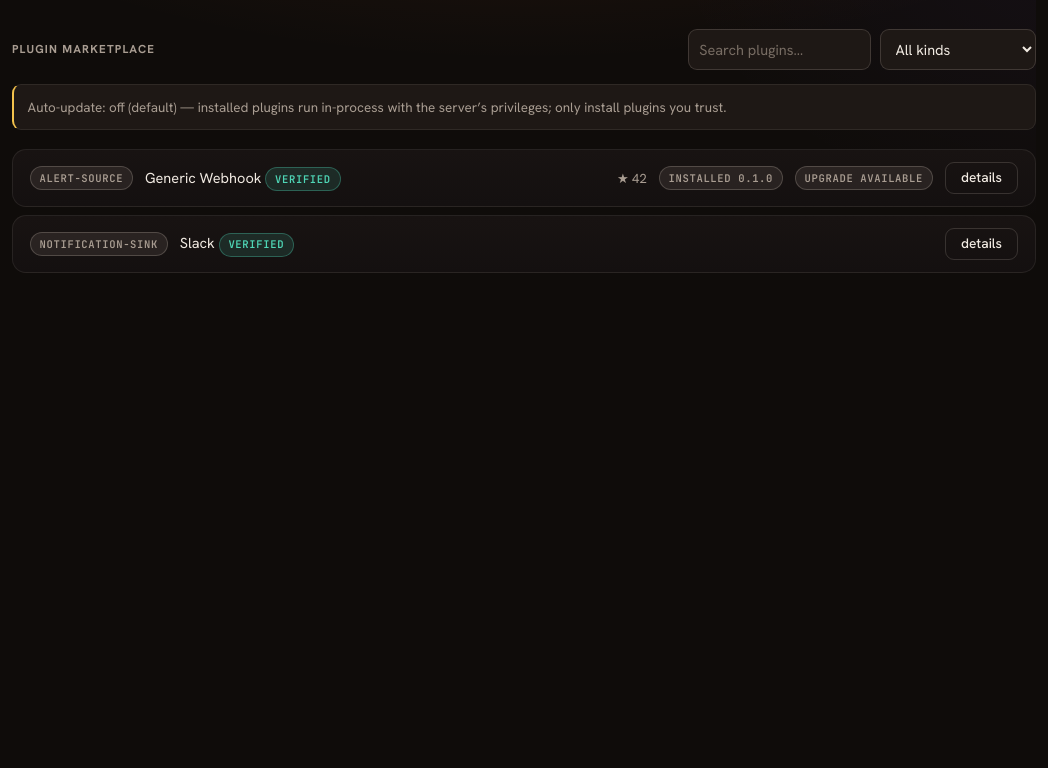
Test: MarketplacePage › disables and relabels the install button for an already-installed version
Expected: the text "Generic Webhook" is shown, [145, 168, 261, 187]
Click the button "details" in the row of "alert-source" at (982, 178), box [945, 162, 1018, 194]
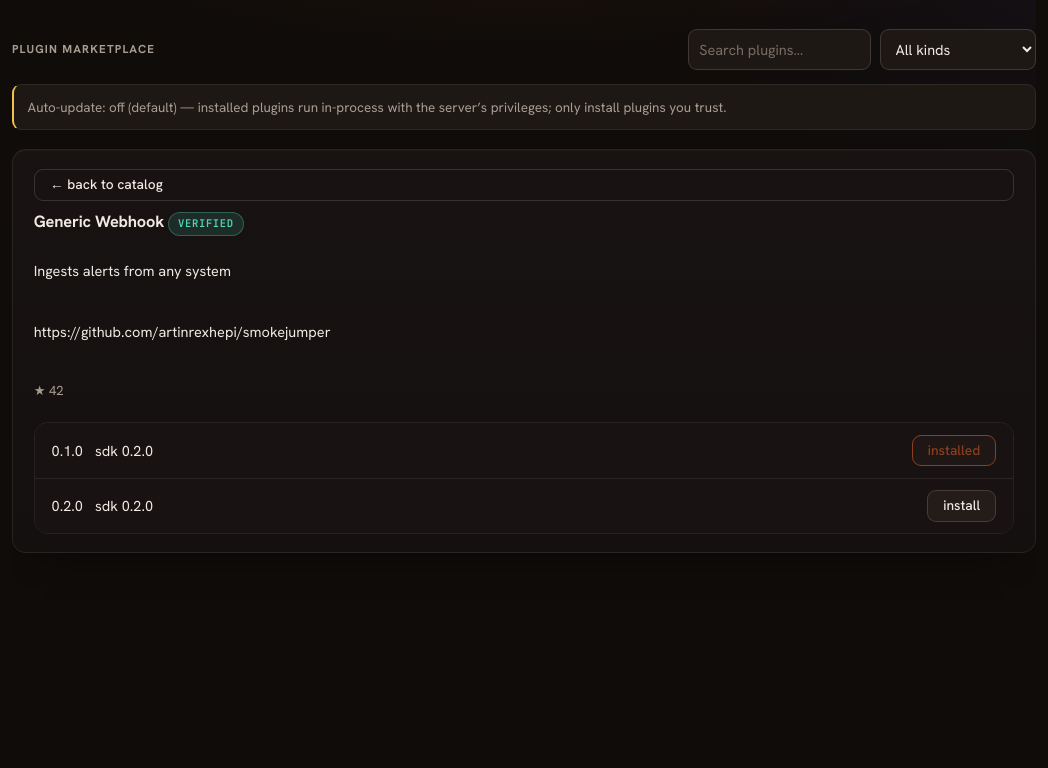
Expected: the button "installed" is disabled, [912, 435, 996, 466]
Expected: the text "0.2.0" is shown, [52, 494, 83, 517]
Expected: the button "install" is shown, [927, 490, 996, 522]
